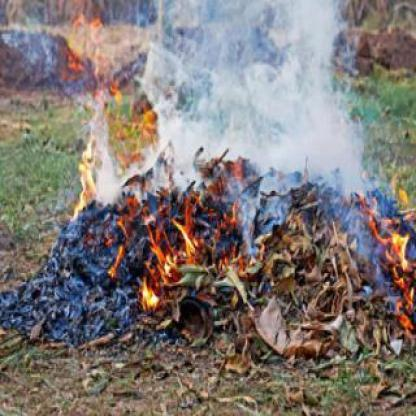fire: (130, 225, 199, 313), (366, 214, 414, 323), (72, 122, 106, 224)
